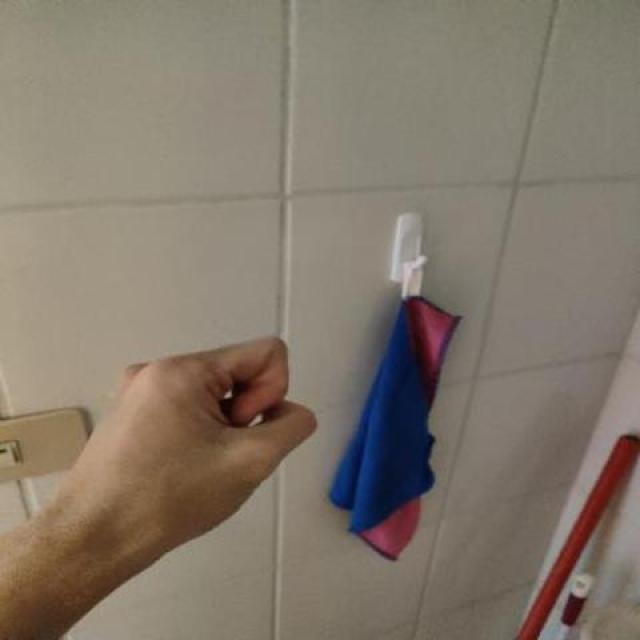fist: (45, 331, 319, 564)
